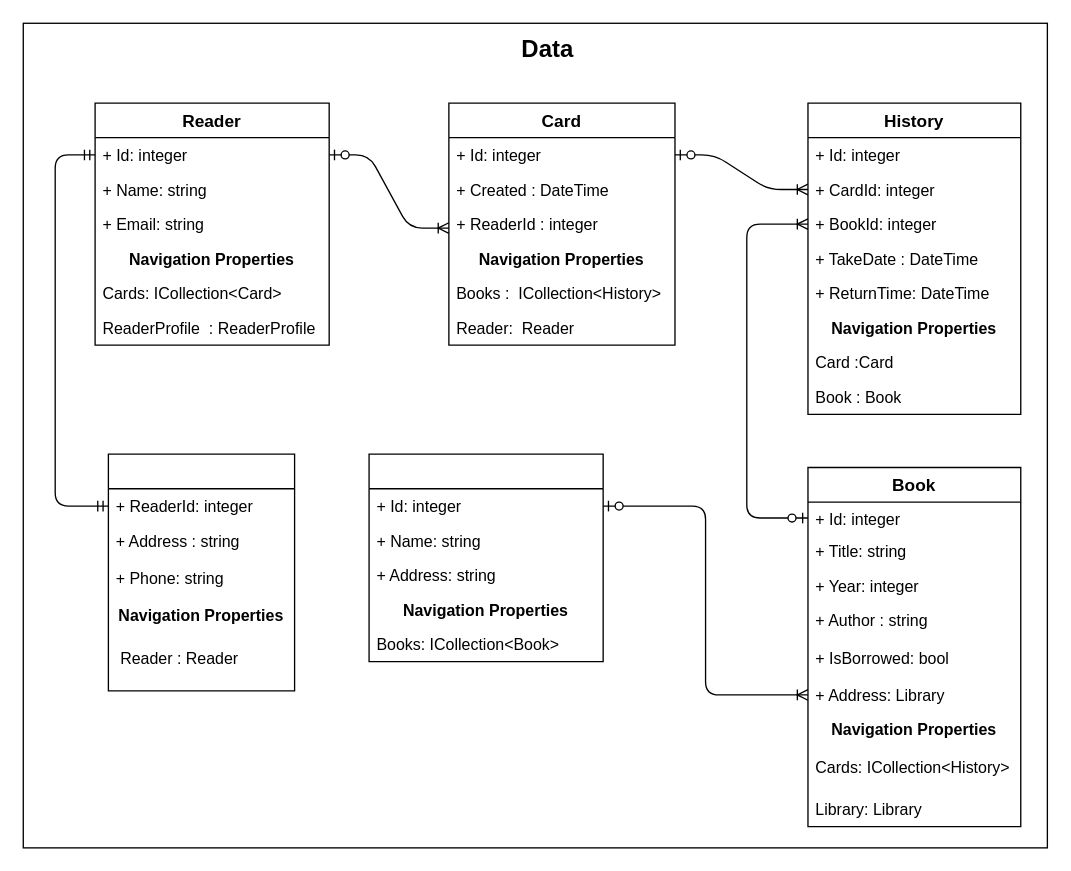
This 1071x871 diagram has some shape labels left out. The box of each missing label's shape, as (x1, y1, x2, y2) in pixels:
Library: (368, 453, 603, 662)
ReaderProfile: (107, 453, 295, 691)
